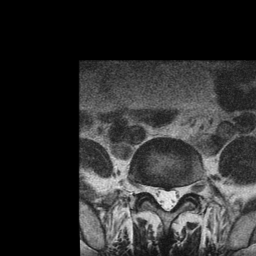CCS_normal: (162, 179, 170, 218)
LFS_normal: (178, 177, 187, 202)
LLS_normal: (170, 179, 178, 212)
RFS_normal: (146, 175, 155, 203)
RLS_normal: (155, 176, 162, 214)
